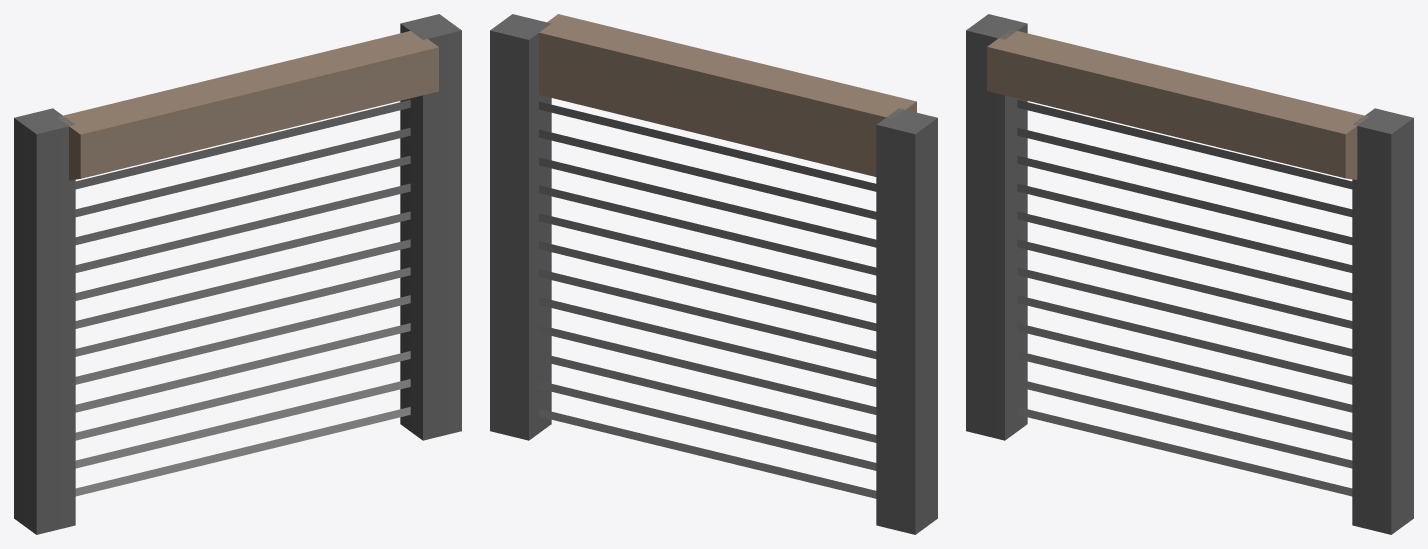
File: B02_volet_3.fbx
3 views of the same model, side by side, from view 1: azimuth 30°, elevation 25°; view 2: azimuth 150°, elevation 25°; view 3: azimuth 330°, elevation 25° (orthographic).
Parts seen in each view (by area): view 1: B02_volet_3; view 2: B02_volet_3; view 3: B02_volet_3.
Boxes of the visible parts, bbox=[...] form: B02_volet_3: bbox=[14, 14, 461, 534]; B02_volet_3: bbox=[490, 14, 937, 534]; B02_volet_3: bbox=[966, 14, 1413, 534].
Size of the model in its own units: 375 by 337 by 51.87.
